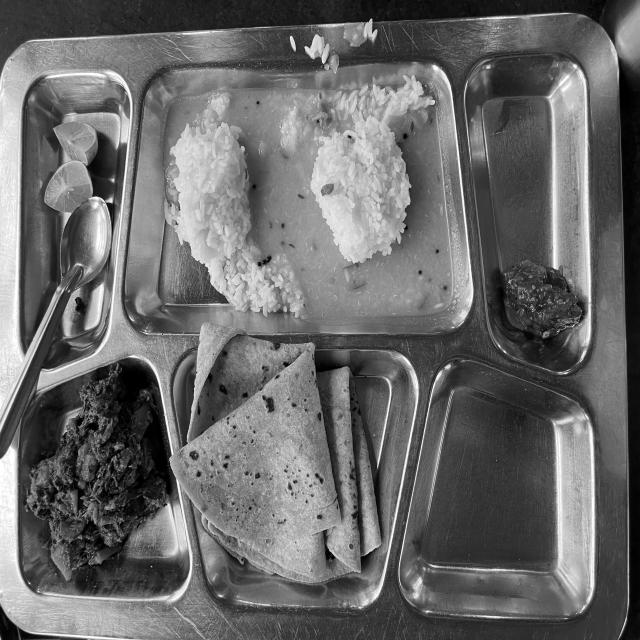70.7- Food Left: (13, 53, 620, 619)
